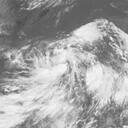cyclone: (41, 36, 99, 96)
